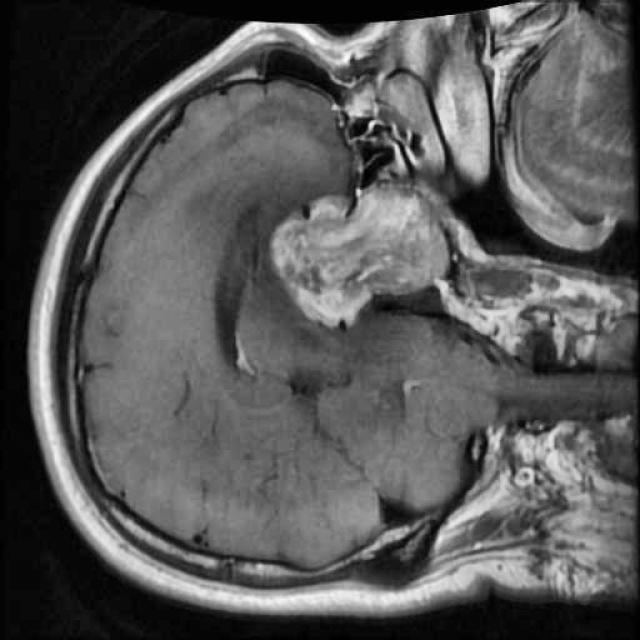Tumor: (265, 171, 466, 340)
